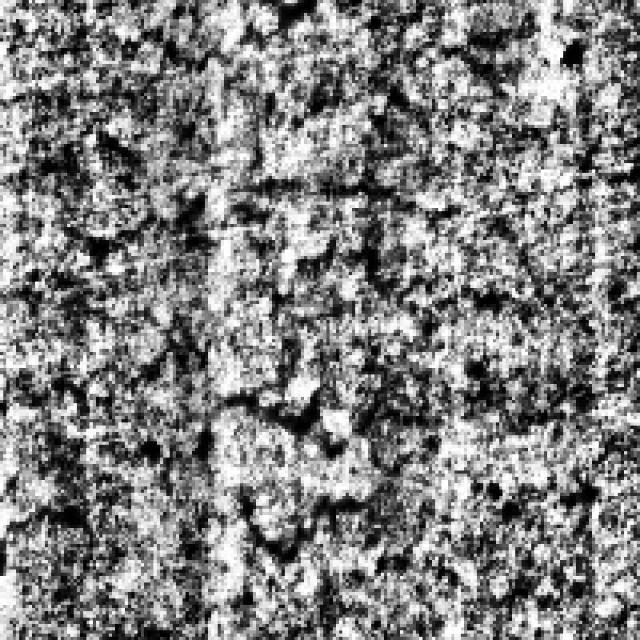Pitted_Surface: (29, 80, 484, 317), (186, 384, 598, 589)
